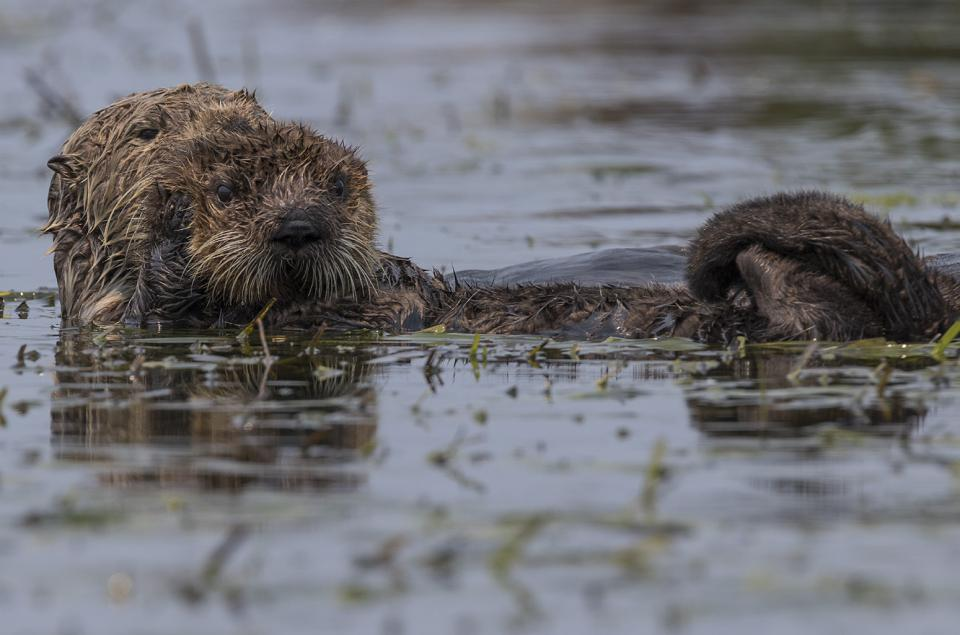otter: (42, 75, 576, 320)
